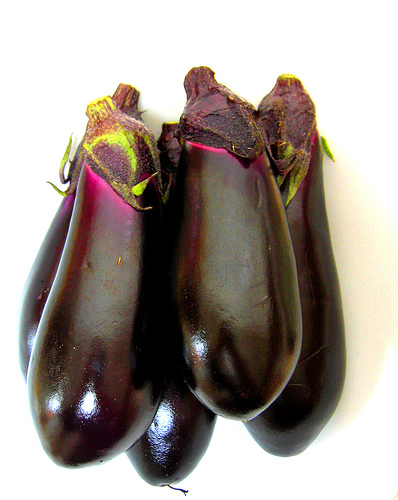eggplant: (22, 94, 171, 470), (167, 64, 306, 414), (243, 69, 349, 460)
